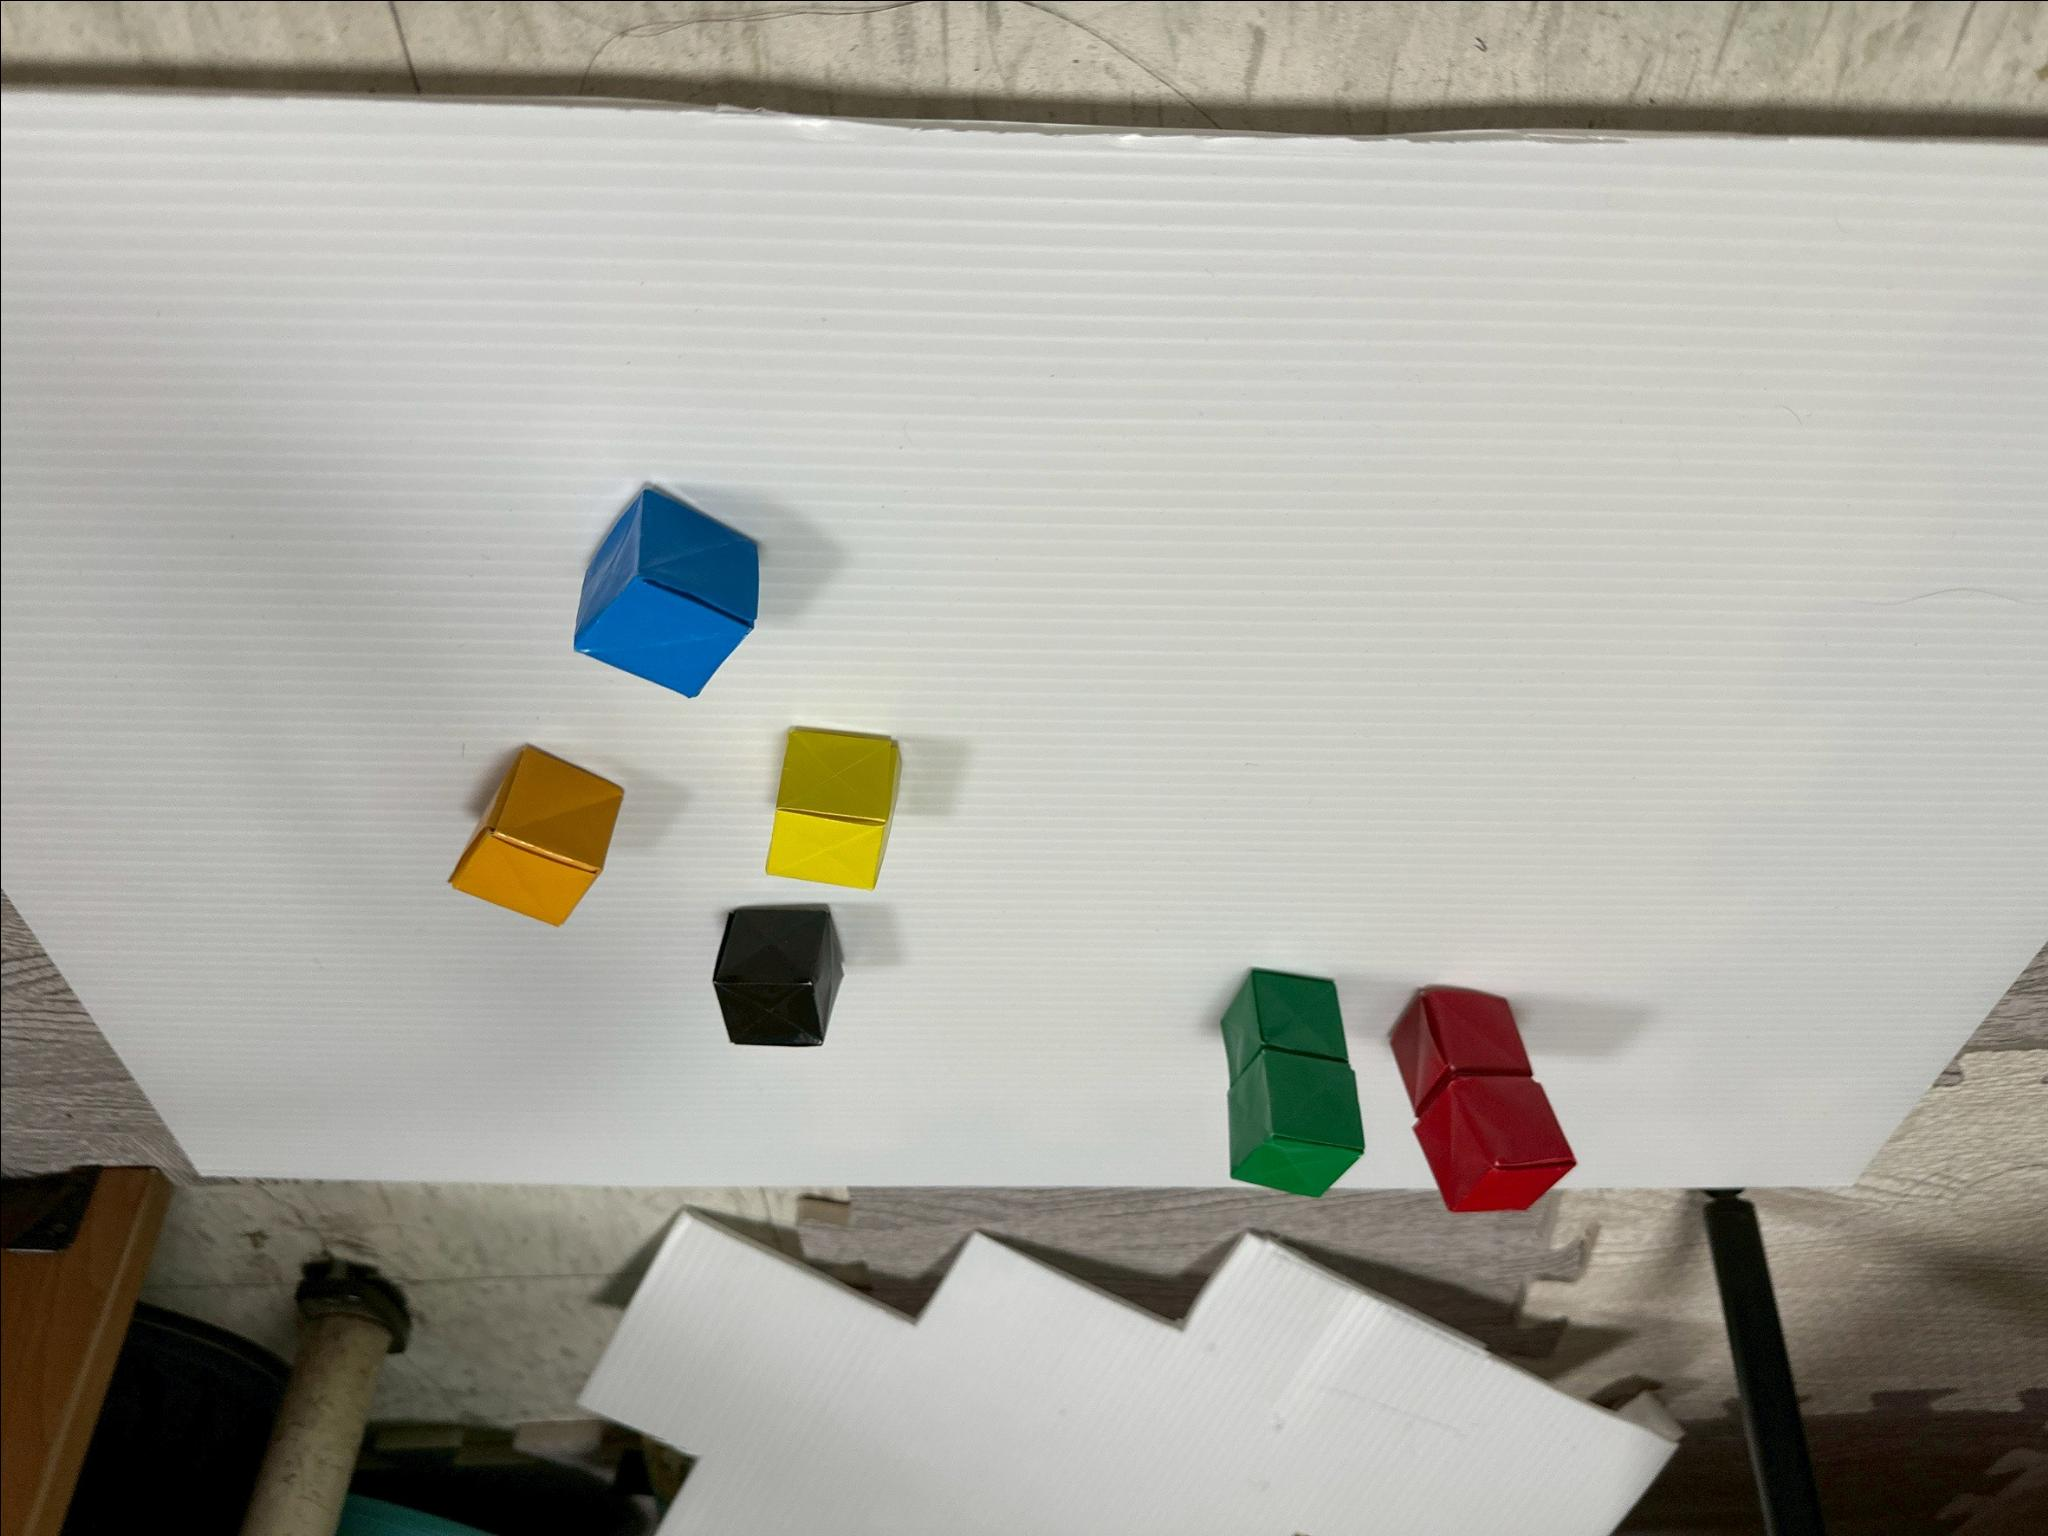cube: (572, 489, 758, 694), (450, 747, 621, 925), (1413, 1073, 1574, 1210), (764, 726, 898, 889), (1227, 1047, 1363, 1197), (711, 905, 842, 1044), (1390, 989, 1530, 1115), (1221, 970, 1347, 1078)
